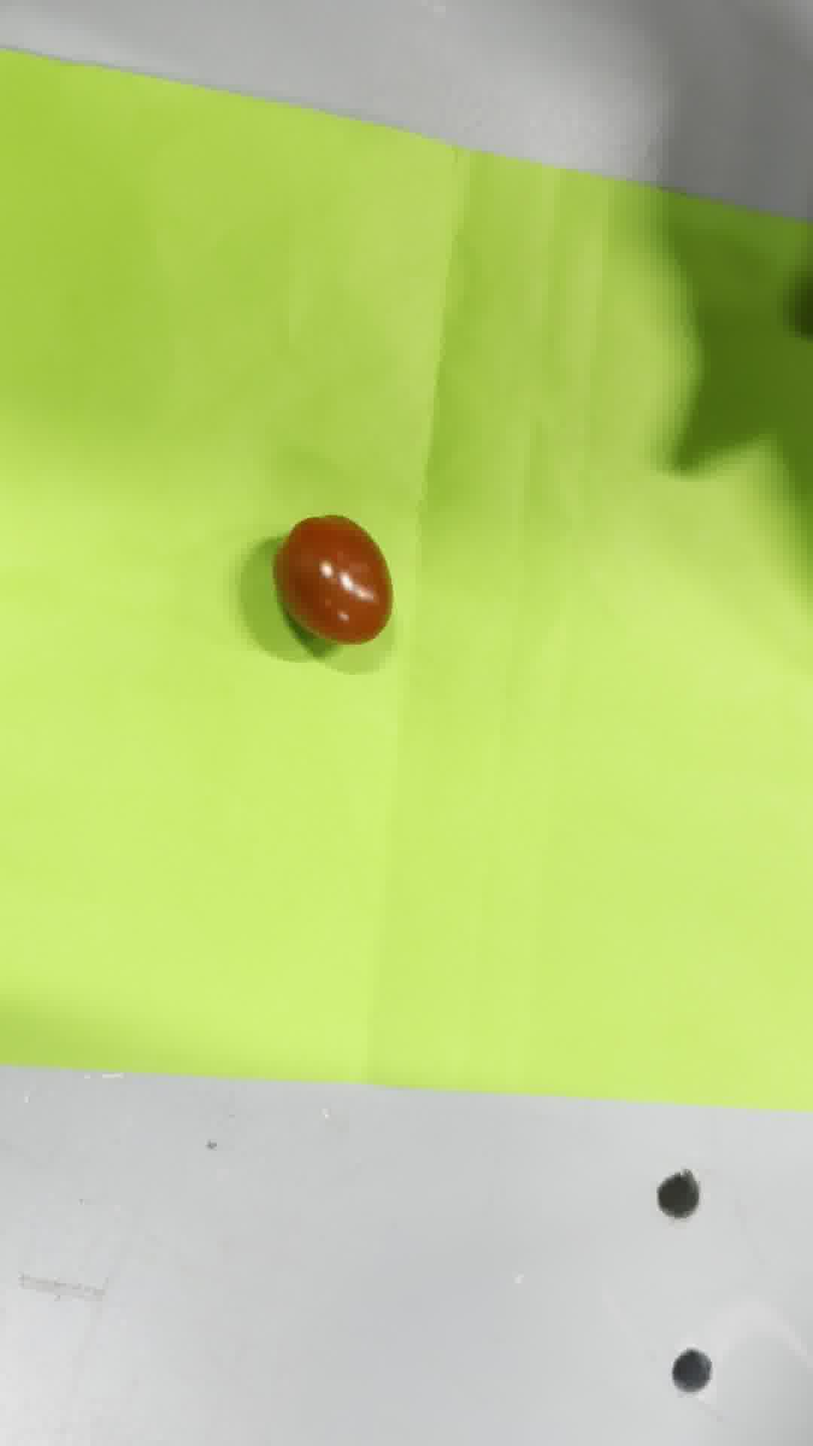red_cherry_tomato: (273, 515, 392, 647)
